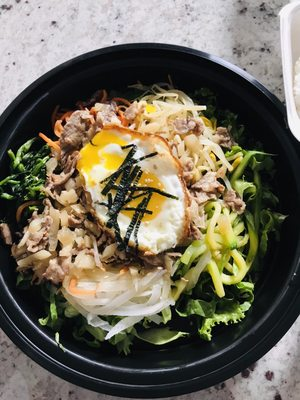sushi: (2, 43, 300, 394)
